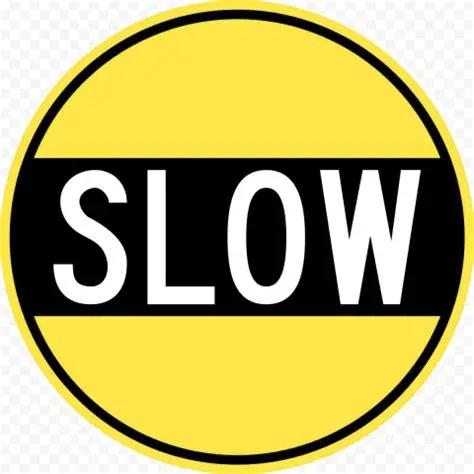Slow: (2, 1, 470, 471)
